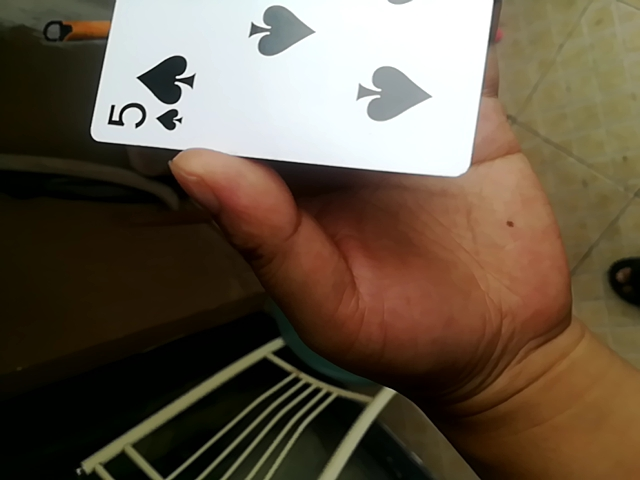ht 5: (94, 0, 518, 179)
